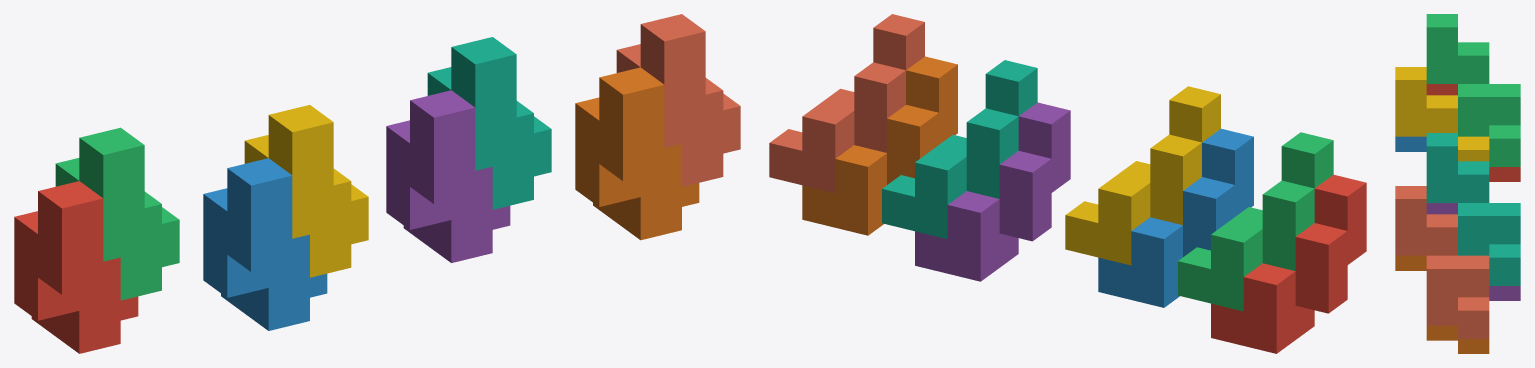
File: tiling.obj
3 renders of one model, left to right at view 1: azimuth 30°, elevation 25°; view 2: azimuth 150°, elevation 25°; view 3: azimuth 270°, elevation 25°, orthographic. The views are drawn at different scales.
Visible parts, largest first — view 1: copy_1_domain_1, copy_1_domain_5, copy_1_domain_2, copy_1_domain_6, copy_1_domain_3, copy_1_domain_7, copy_1_domain_4, copy_1_domain_8; view 2: copy_1_domain_1, copy_1_domain_5, copy_1_domain_3, copy_1_domain_7, copy_1_domain_8, copy_1_domain_4, copy_1_domain_2, copy_1_domain_6; view 3: copy_1_domain_8, copy_1_domain_3, copy_1_domain_7, copy_1_domain_4, copy_1_domain_6, copy_1_domain_1, copy_1_domain_5, copy_1_domain_2.
Boxes of the visible parts, x1,y1,x2,y2 form: copy_1_domain_1: [14, 181, 138, 353]; copy_1_domain_5: [386, 90, 510, 262]; copy_1_domain_2: [203, 158, 327, 330]; copy_1_domain_6: [575, 67, 699, 240]; copy_1_domain_3: [55, 127, 179, 300]; copy_1_domain_7: [427, 37, 551, 209]; copy_1_domain_4: [244, 105, 368, 277]; copy_1_domain_8: [616, 14, 740, 186]; copy_1_domain_1: [1211, 174, 1366, 353]; copy_1_domain_5: [915, 102, 1070, 281]; copy_1_domain_3: [1178, 132, 1333, 311]; copy_1_domain_7: [882, 60, 1037, 239]; copy_1_domain_8: [769, 14, 924, 193]; copy_1_domain_4: [1065, 86, 1220, 265]; copy_1_domain_2: [1098, 128, 1253, 307]; copy_1_domain_6: [802, 56, 957, 235]; copy_1_domain_8: [1395, 186, 1489, 338]; copy_1_domain_3: [1426, 14, 1520, 166]; copy_1_domain_7: [1426, 133, 1520, 285]; copy_1_domain_4: [1395, 67, 1489, 161]; copy_1_domain_6: [1395, 255, 1489, 353]; copy_1_domain_1: [1426, 84, 1520, 181]; copy_1_domain_5: [1426, 203, 1520, 300]; copy_1_domain_2: [1395, 136, 1426, 151].
Bounding box in the file's own units: 17 × 5 × 4.
